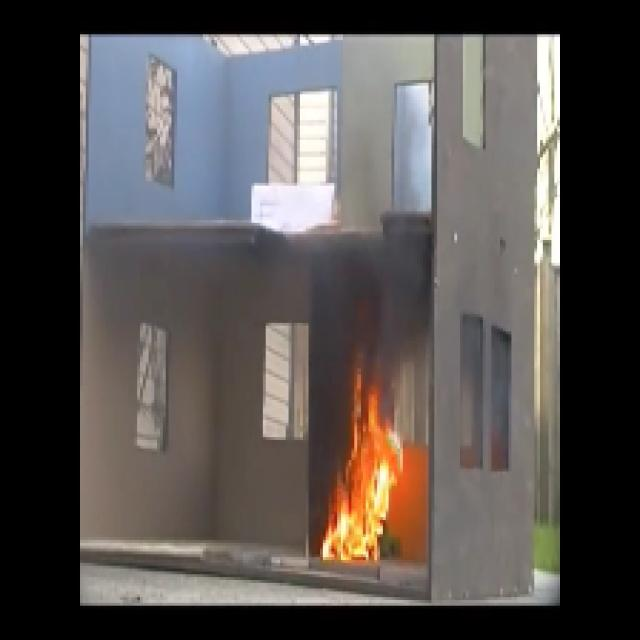fire: (317, 403, 401, 565)
smoke: (314, 242, 432, 331)
